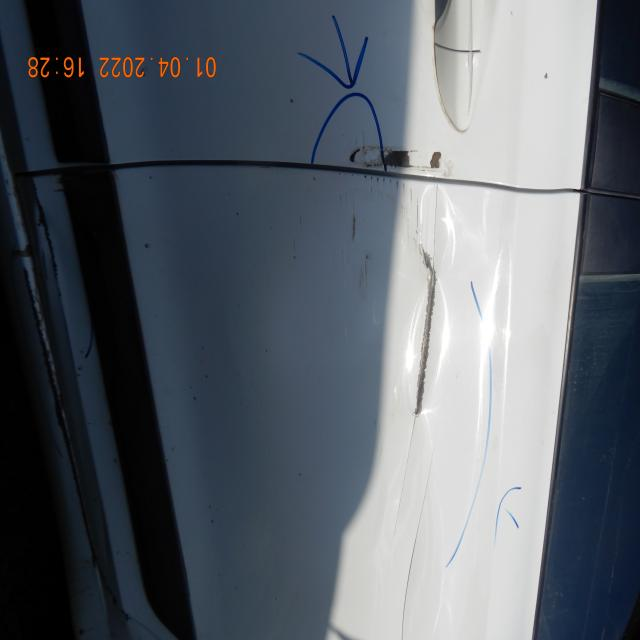damage: (343, 179, 449, 462), (0, 151, 97, 450), (391, 438, 439, 640), (348, 136, 455, 170)
